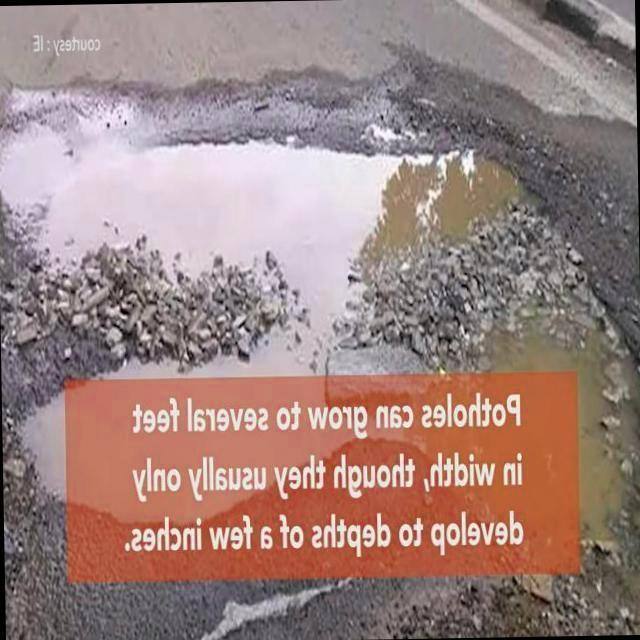pothole: (0, 140, 401, 329), (494, 330, 640, 541), (361, 155, 522, 263), (105, 331, 325, 379), (22, 391, 65, 499), (25, 396, 65, 496), (328, 346, 426, 375)
